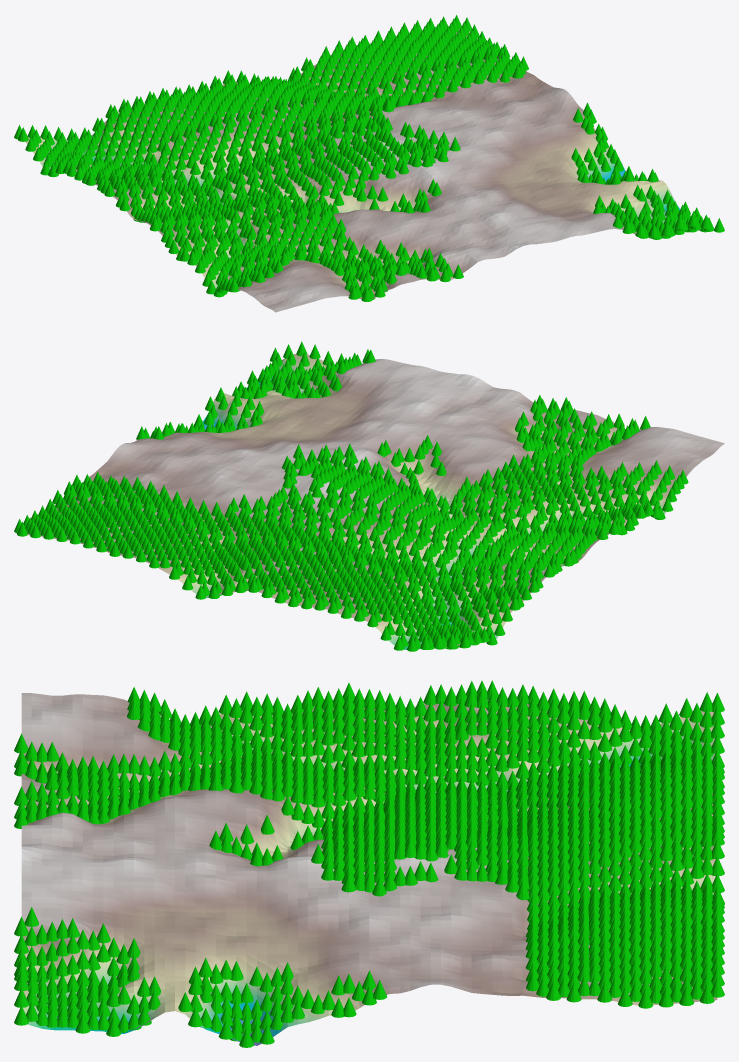
The model's file is 005293_with_tree.glb.
3 renders of one model, top to bottom at view 1: azimuth 30°, elevation 25°; view 2: azimuth 150°, elevation 25°; view 3: azimuth 270°, elevation 25°, orthographic. The views are drawn at different scales.
Visible parts, largest first — view 1: trees, terrain; view 2: trees, terrain; view 3: trees, terrain.
Part boxes in pixels (left/top/right/bottom): trees: left=14, top=15, right=724, bottom=301; terrain: left=25, top=29, right=700, bottom=312; trees: left=14, top=341, right=688, bottom=651; terrain: left=16, top=354, right=724, bottom=649; trees: left=14, top=680, right=724, bottom=1047; terrain: left=21, top=693, right=717, bottom=1045.
Bounding box in the file's own units: 0.0187 × 0.00241 × 0.0187.
